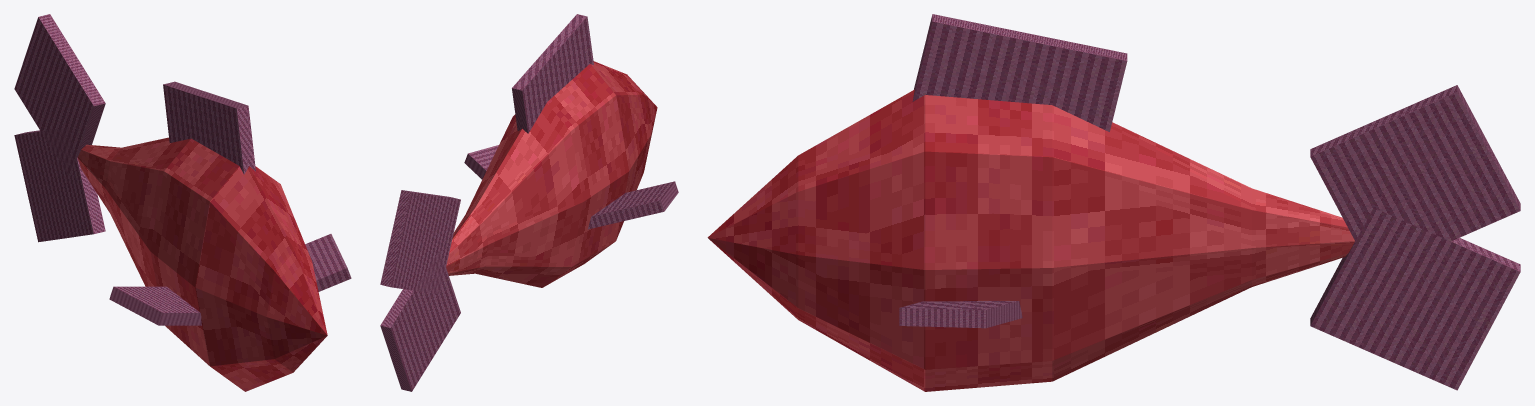
Rendered from carpa_vampiro.glb.
3 views of the same model, side by side, from view 1: azimuth 30°, elevation 25°; view 2: azimuth 150°, elevation 25°; view 3: azimuth 270°, elevation 25° (orthographic). The views are drawn at different scales.
Visible parts, largest first — view 1: carpa_vampiro; view 2: carpa_vampiro; view 3: carpa_vampiro.
Part boxes in pixels (box(x1,y1,x2,y2)): carpa_vampiro: box(14, 14, 351, 391); carpa_vampiro: box(380, 14, 678, 391); carpa_vampiro: box(707, 14, 1520, 391).
Bounding box in the file's own units: 0.3803 × 0.4548 × 0.8958.
1 material, 1 textured.
